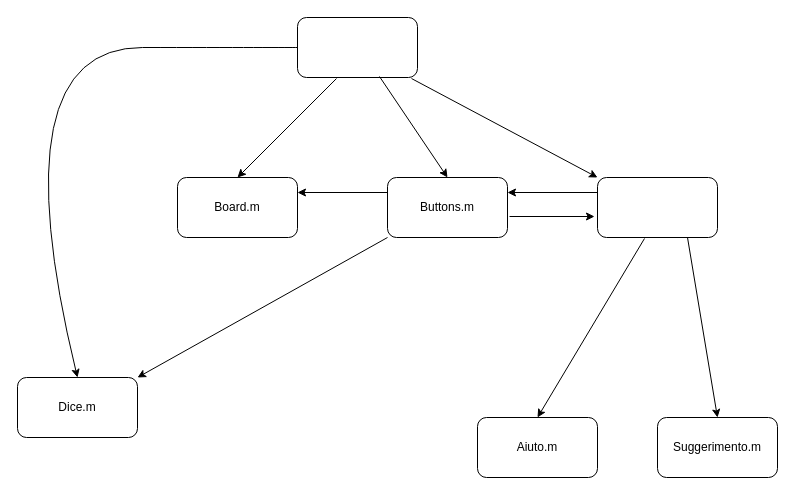
Image size: 795x495. Some labels were removed from this diagram. Each missing label, with the centre of its shape:
"Euclide.m" goes at pixel 657 207.
"IDivisori.m" goes at pixel 357 47.
